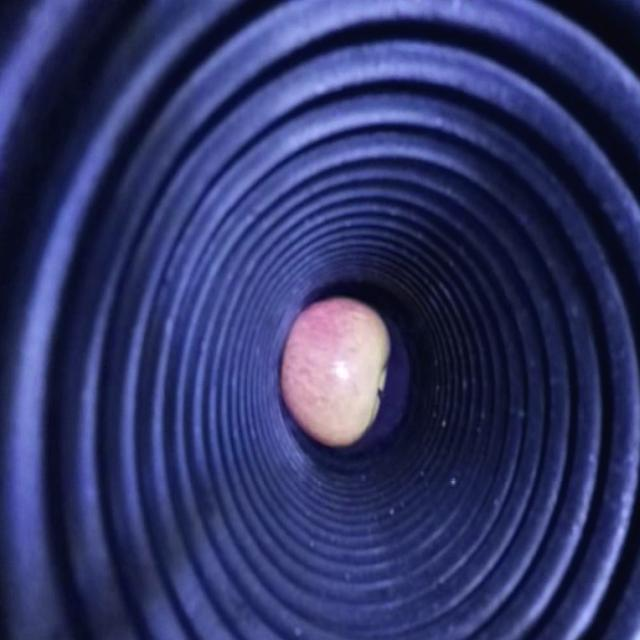obstacles: (278, 299, 393, 449)
